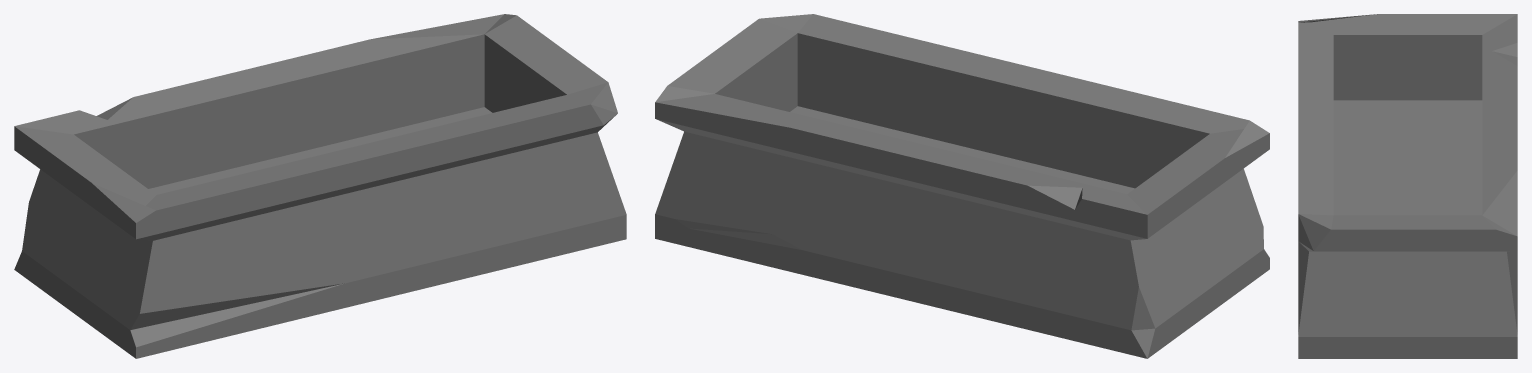
File: Grave_Base.fbx
3 renders of one model, left to right at view 1: azimuth 30°, elevation 25°; view 2: azimuth 150°, elevation 25°; view 3: azimuth 270°, elevation 25°, orthographic. The views are drawn at different scales.
Parts seen in each view (by area): view 1: Grave_Base; view 2: Grave_Base; view 3: Grave_Base.
Boxes of the visible parts, left/top/right/bottom form: Grave_Base: left=14, top=14, right=626, bottom=358; Grave_Base: left=655, top=14, right=1269, bottom=358; Grave_Base: left=1298, top=14, right=1517, bottom=358.
Bounding box in the file's own units: 675 × 189 × 290.
